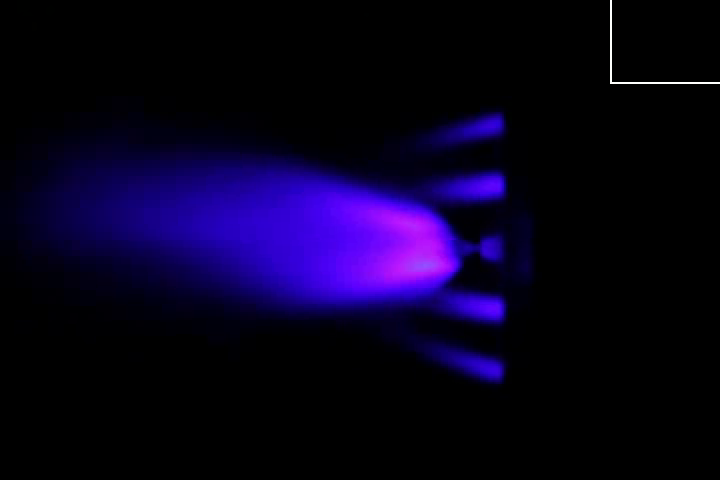burner cap: (478, 238, 505, 262)
pilot flame: (397, 334, 505, 391), (413, 102, 502, 157), (417, 169, 508, 206), (427, 291, 507, 322)
unstable: (340, 195, 482, 299)
